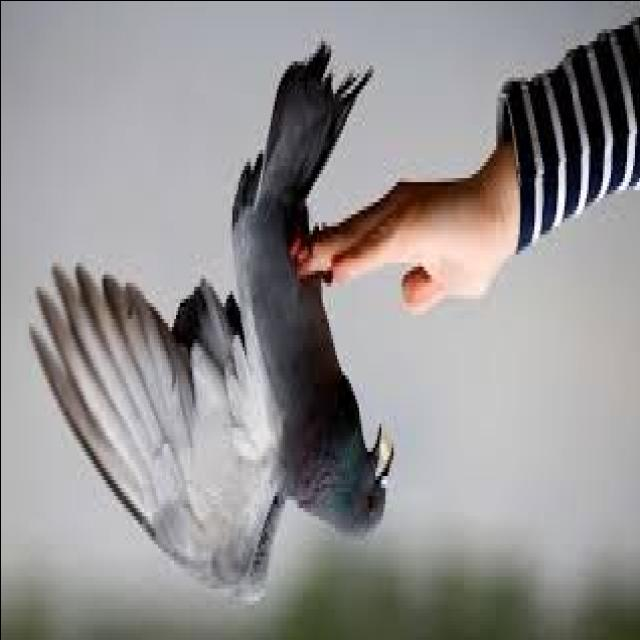pigeon: (28, 31, 400, 594)
